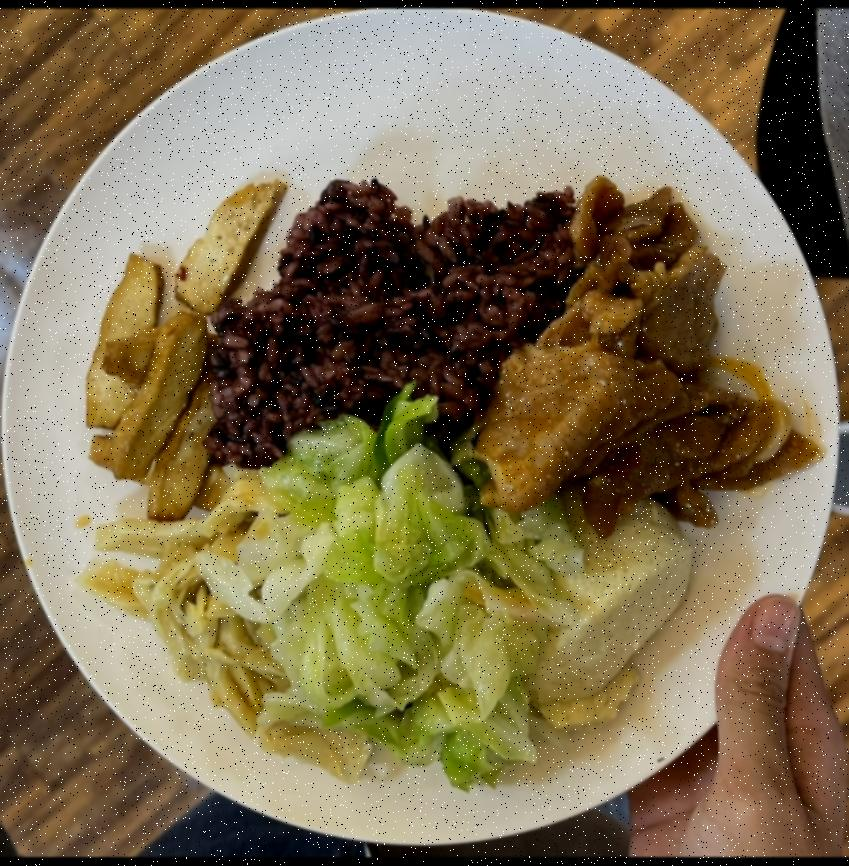plate: (2, 8, 840, 858)
purple rice: (198, 178, 570, 469)
sauteed pork: (474, 181, 827, 521)
side dish: (258, 415, 571, 791), (74, 173, 286, 521), (82, 512, 350, 784), (522, 493, 688, 731)
